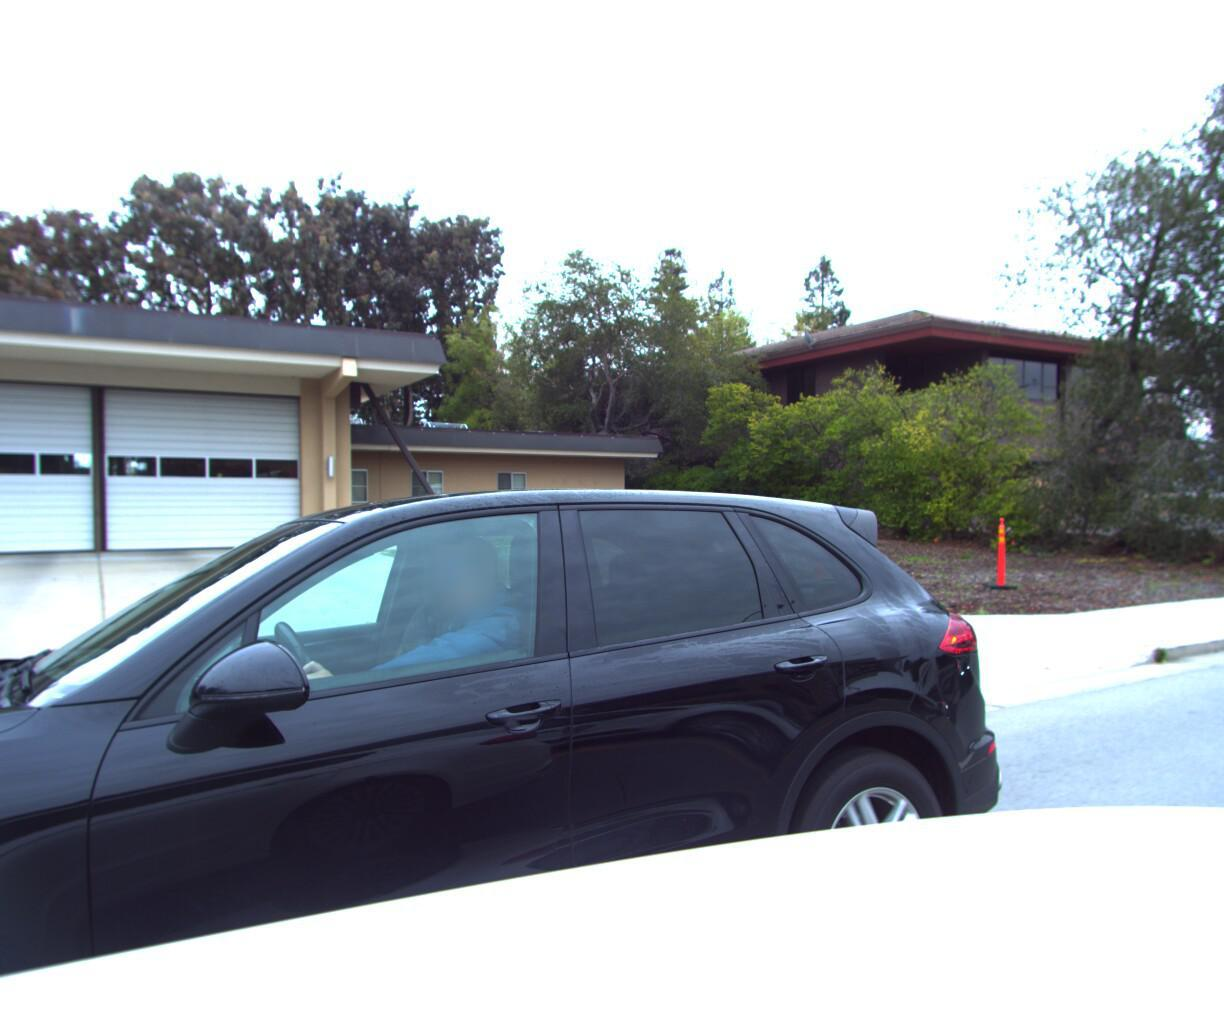car: (0, 316, 1072, 1024)
